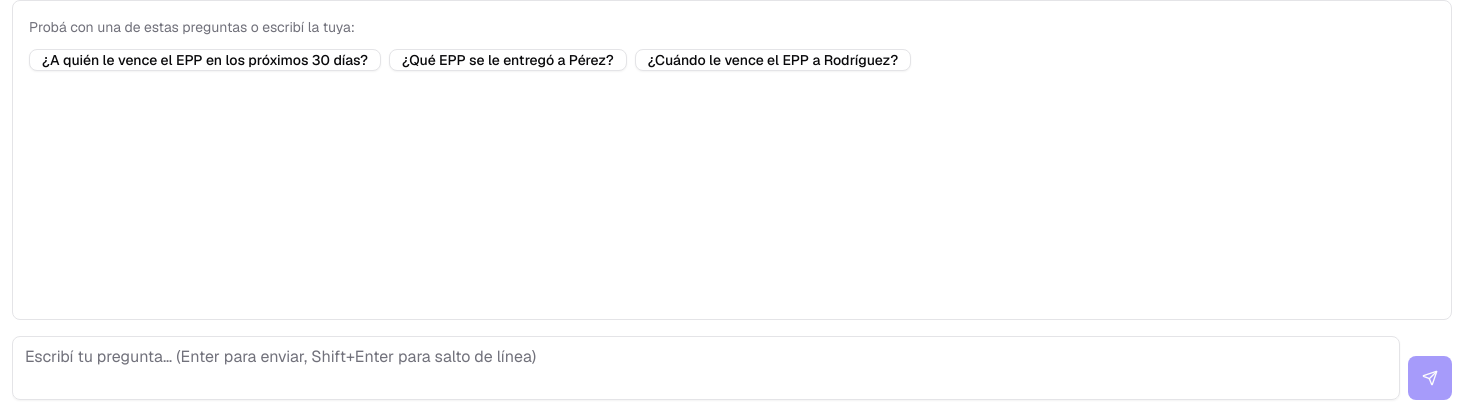
Test case: AsistenteChat (streaming) › STREAM_ABORTED conserva el texto parcial como turno assistant (sin toast)
The image size is (1464, 417).
What coordinates should you click on to do the following:
click the button "¿Qué EPP se le entregó a Pérez?"
I would click on:
 (508, 60)
Its box is [389, 49, 627, 71].
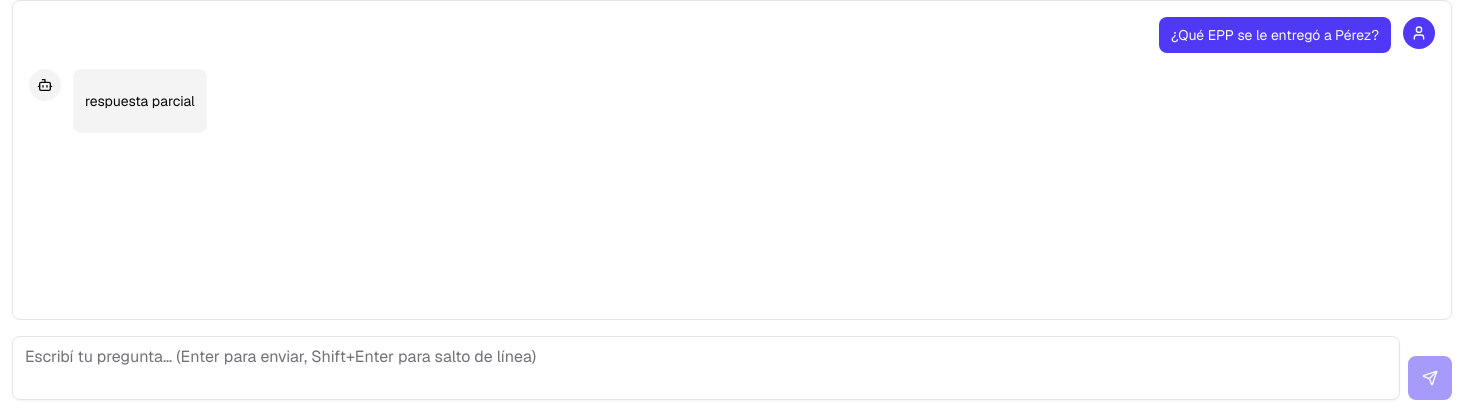
Expected: the text "respuesta parcial" is shown, [85, 89, 195, 113]
